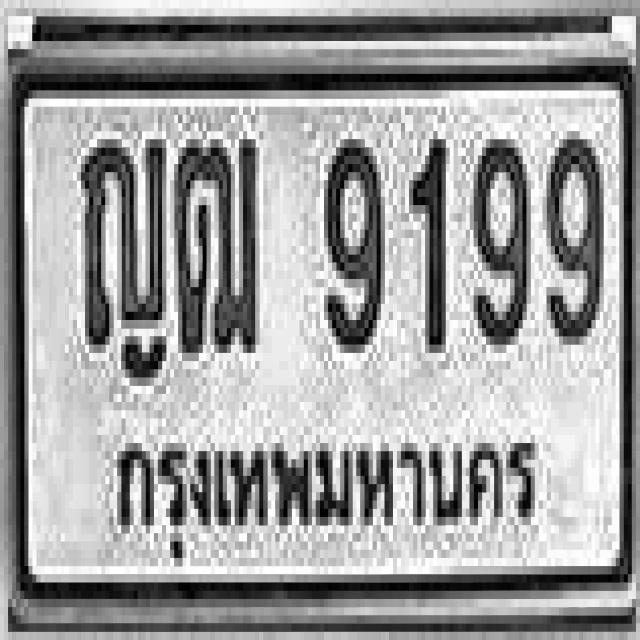license-plate: (11, 67, 632, 593)
